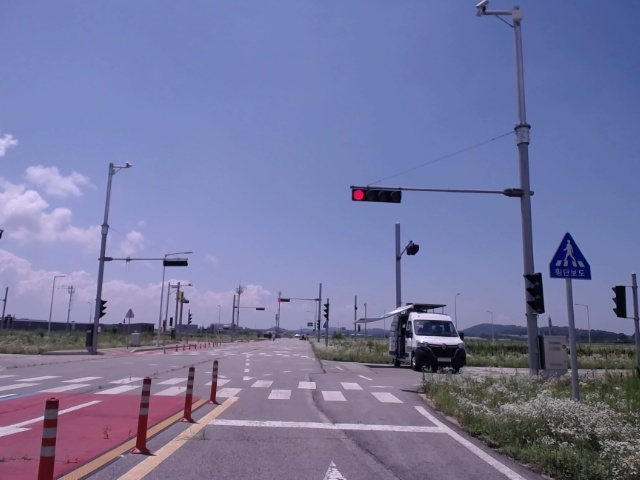red_4: (351, 188, 402, 204)
